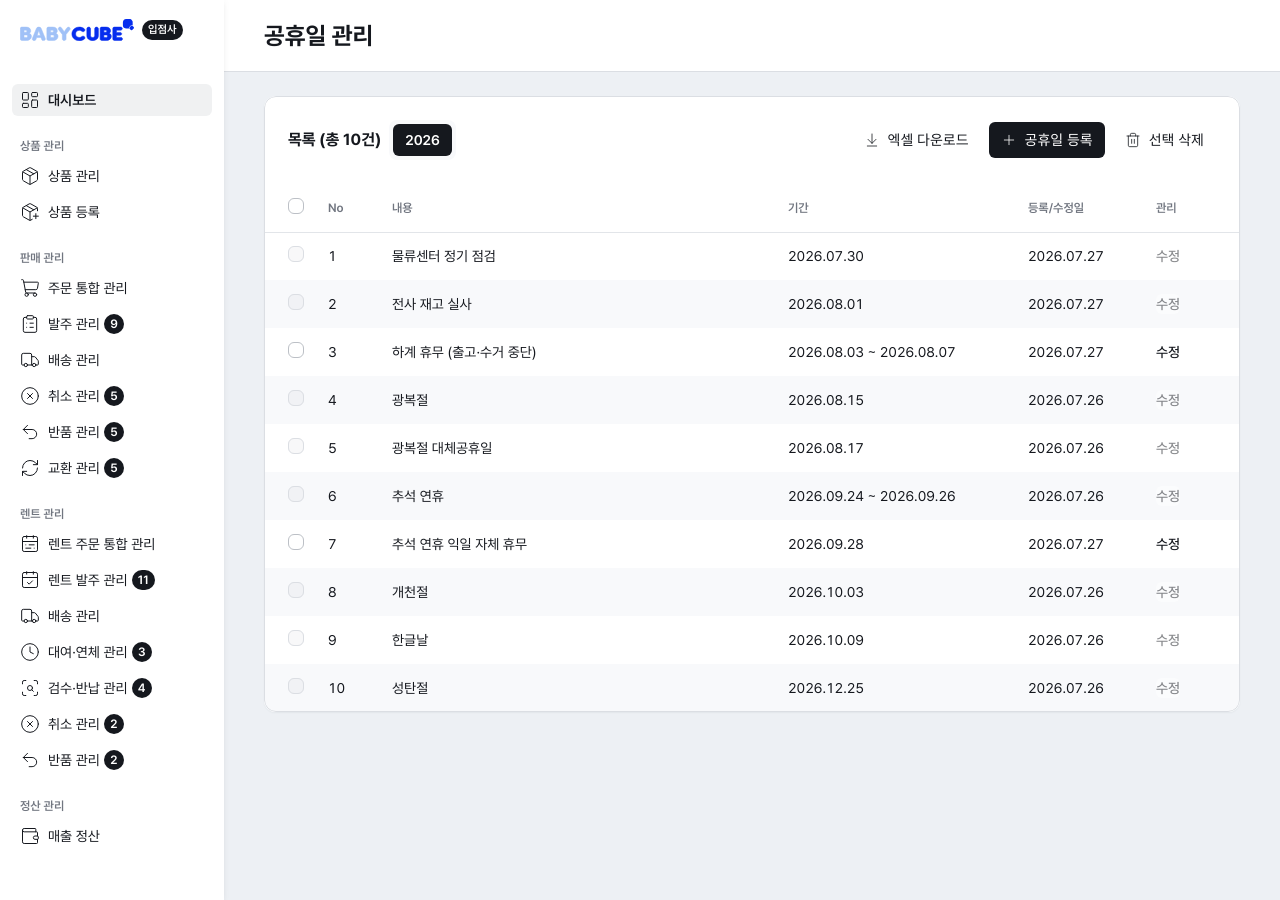
Test case: 공휴일 관리 › 등록 창 — 시작일 · 내용 검사(원본 문구)
The width and height of the screenshot is (1280, 900).
Click the button "공휴일 등록" at [1047, 140], box [989,122,1105,158]
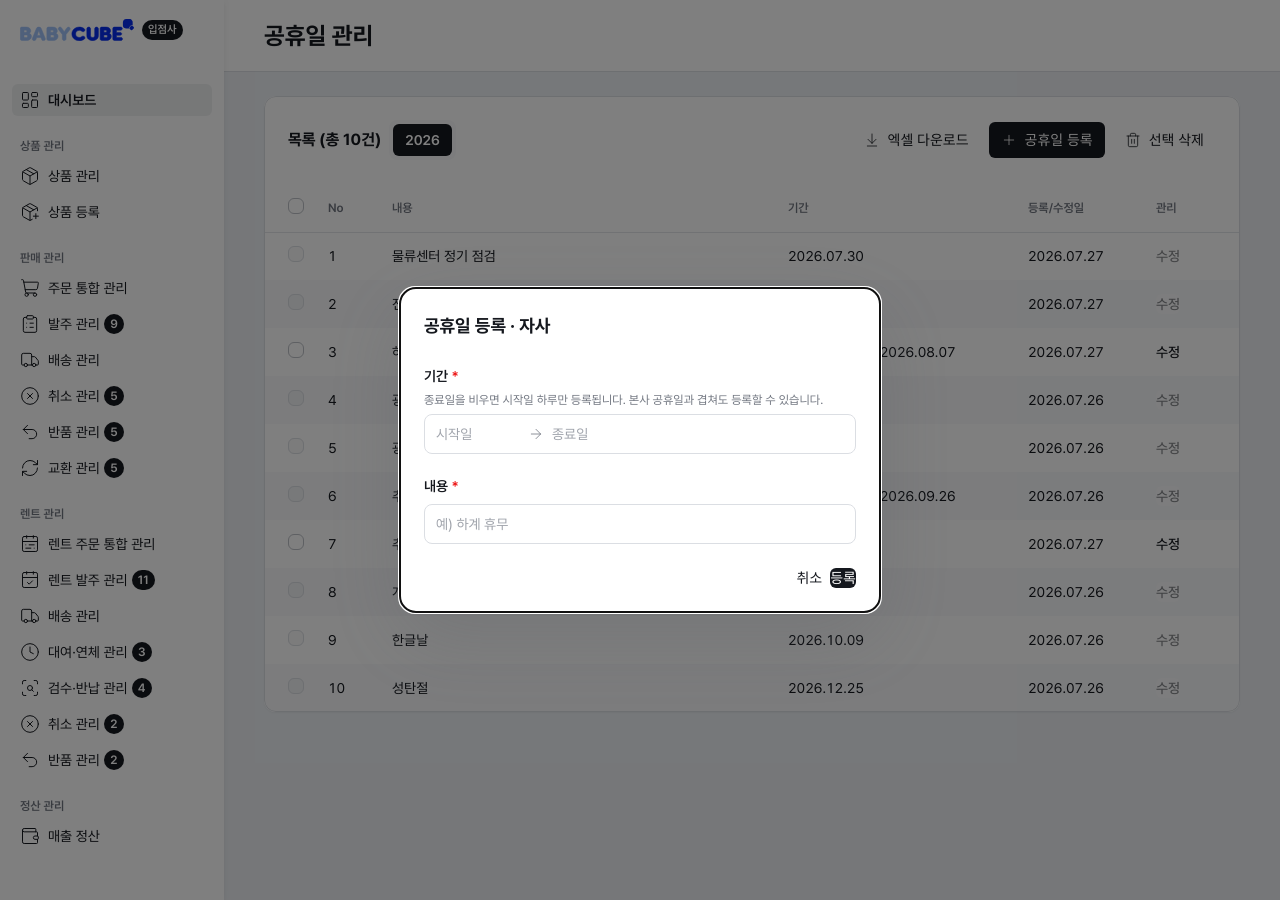
Click the button "등록" at [843, 578], box [830,568,856,588]
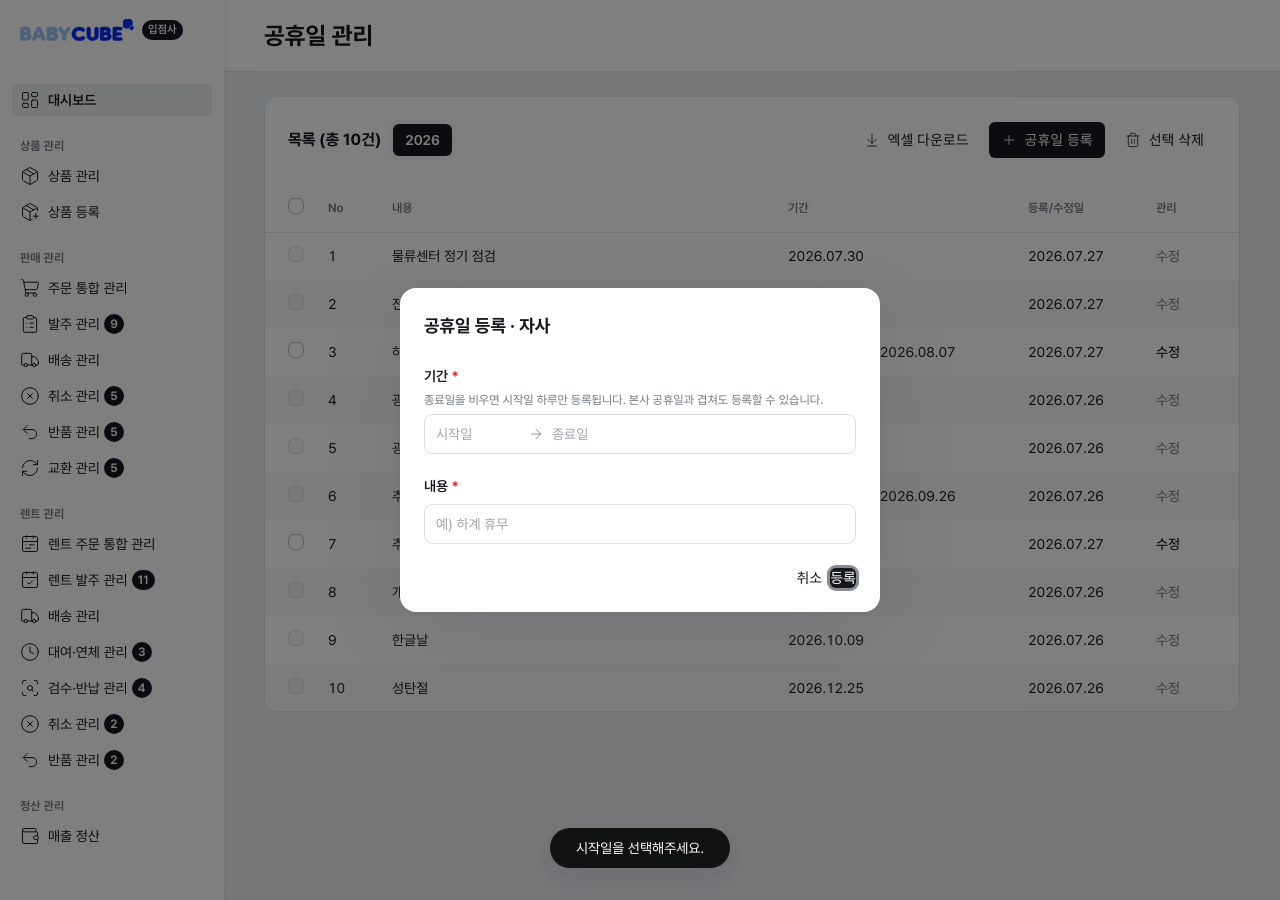
Check: the text "시작일을 선택해주세요." is shown, box [550,828,730,868]
